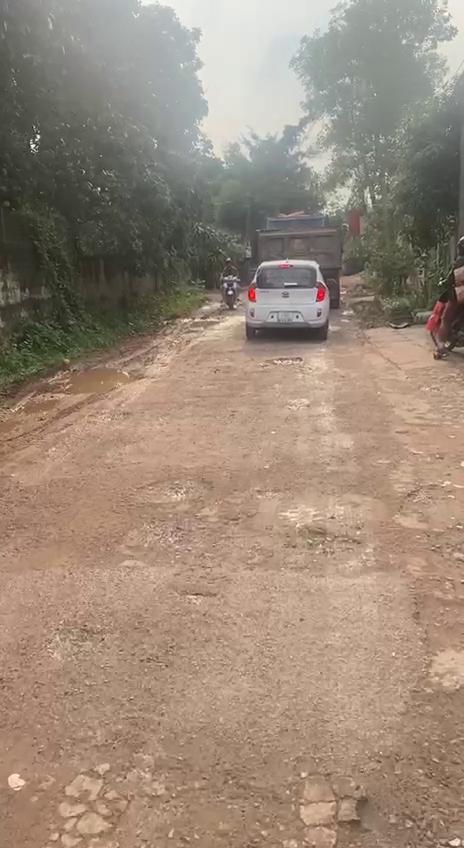pothole: (399, 478, 464, 790), (32, 758, 155, 848), (290, 765, 391, 848), (282, 518, 359, 562), (131, 473, 217, 507), (143, 514, 198, 555), (263, 356, 304, 368)
